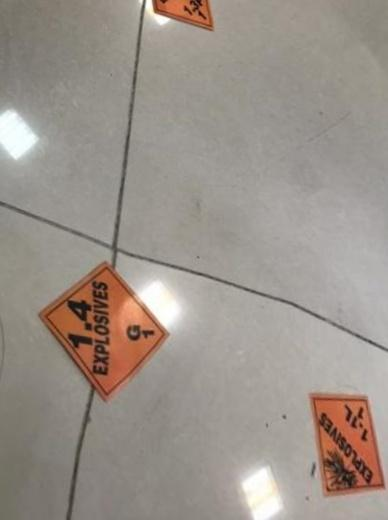explosive: (34, 248, 183, 410), (301, 381, 388, 507), (144, 1, 218, 32)
